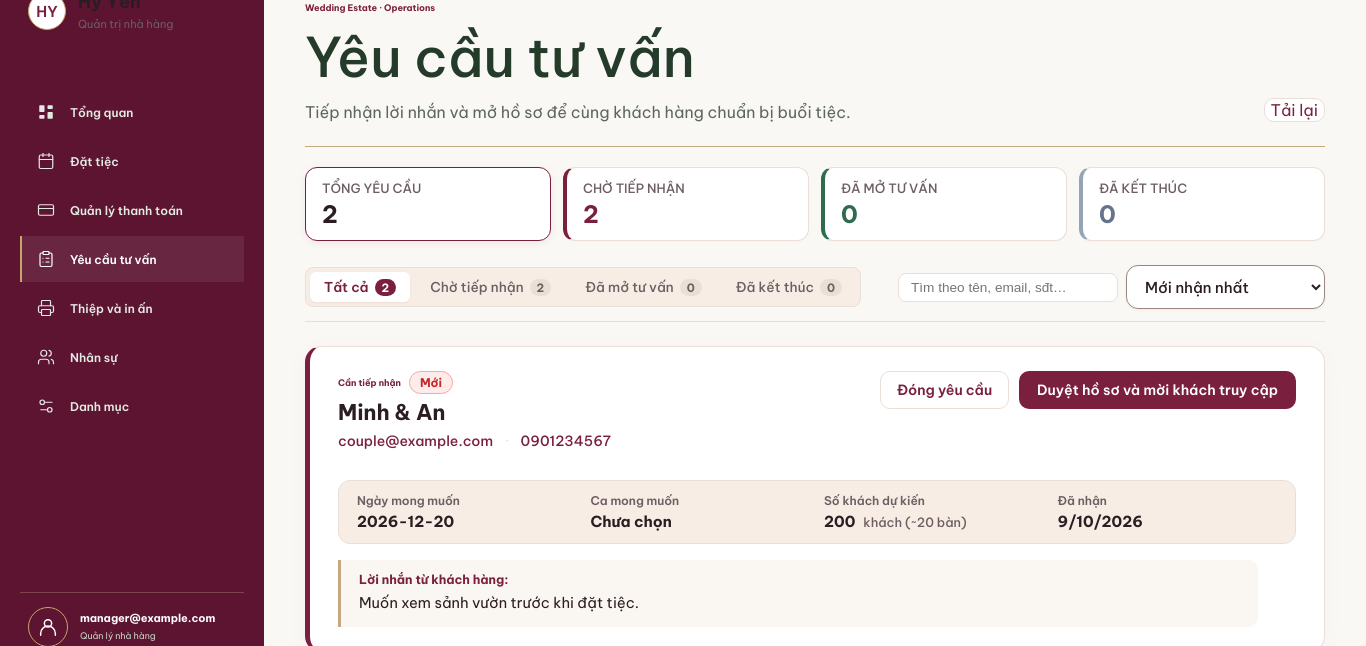
Scenario: ConsultationRequestsPage filters and search › filters requests by search query and shows empty state when nothing matches
Check: the heading "Minh & An" is shown, box [338,398,446,426]
Type "Hoàng" into the search field with placeholder "Tìm theo tên, email, sđt…" at (1008,287), box [898,273,1118,302]
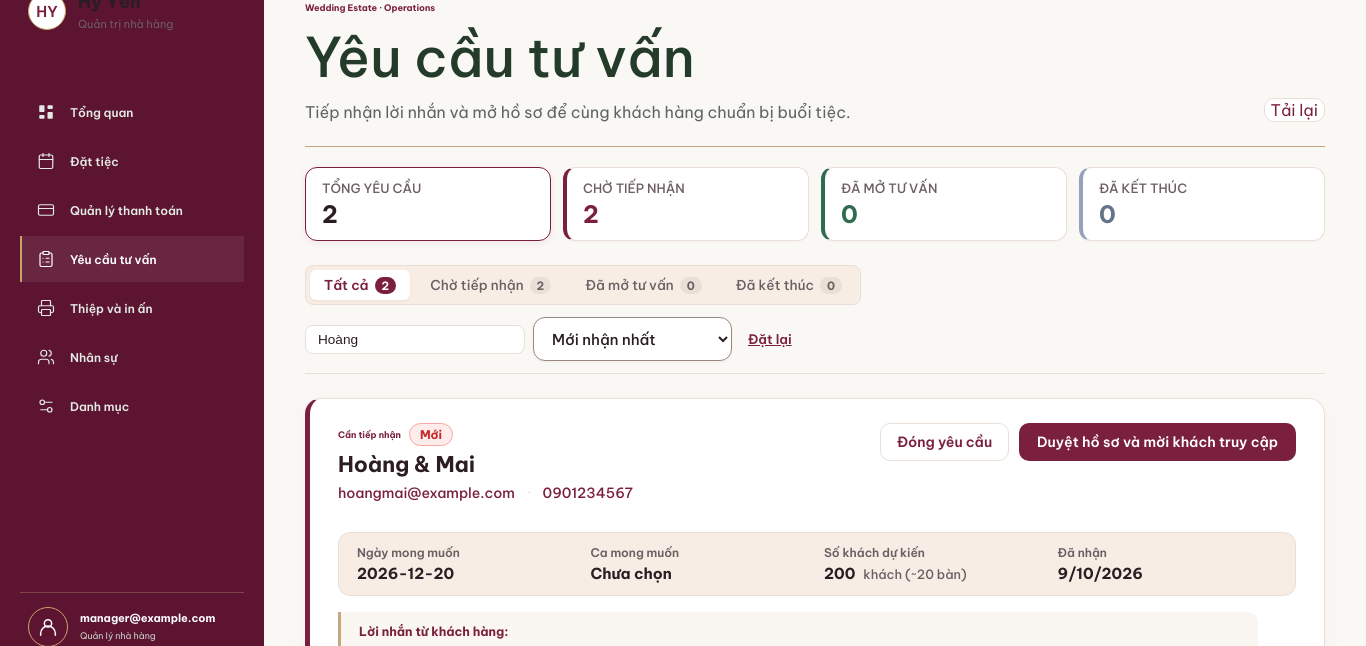
Check: the heading "Hoàng & Mai" is shown, box [338,450,475,478]
Check: the heading "Minh & An" is gone
# Search for non-existent text
Replace the text in the search field with placeholder "Tìm theo tên, email, sđt…" with "xyz123nonexistent" at (415,339), box [305,325,525,354]
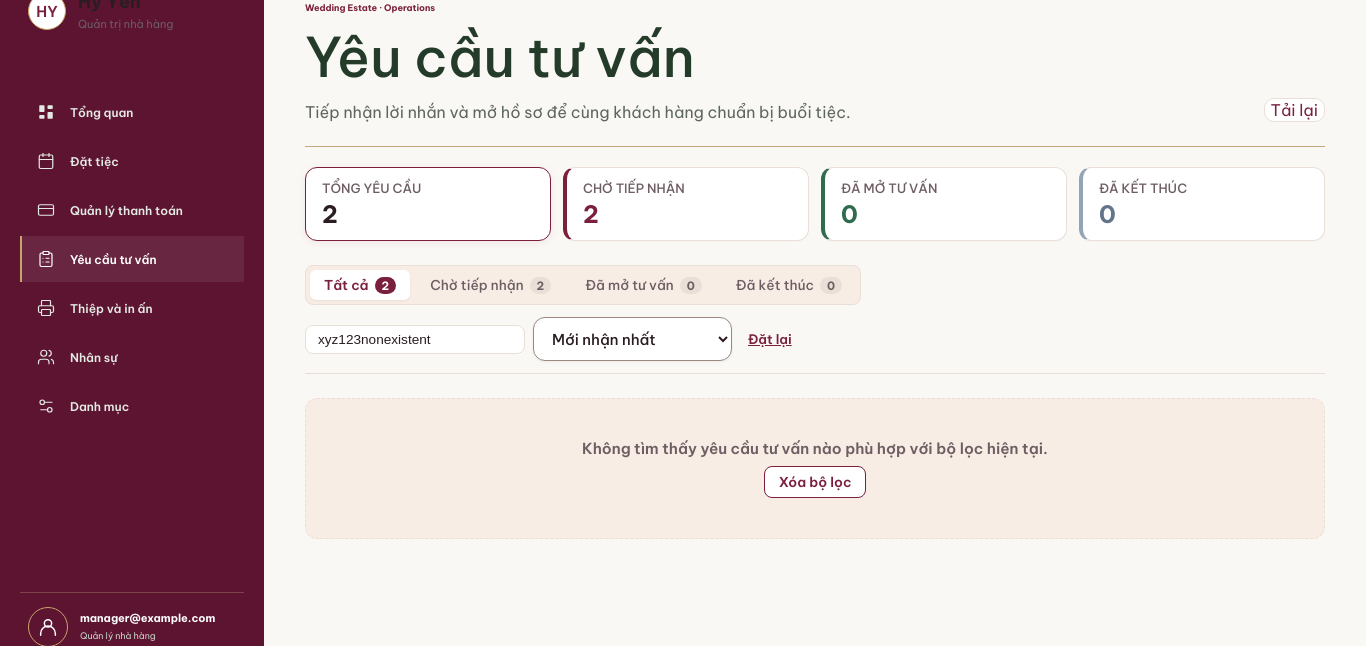
Check: the heading "Minh & An" is not shown
Check: the text "Không tìm thấy yêu cầu tư vấn nào phù hợp với bộ lọc hiện tại." is shown, box [582,439,1048,458]
Check: the heading "Hoàng & Mai" is gone
# Reset filter
Click the button "Xóa bộ lọc" at (815,482), box [764,466,866,498]
(page scrolled)
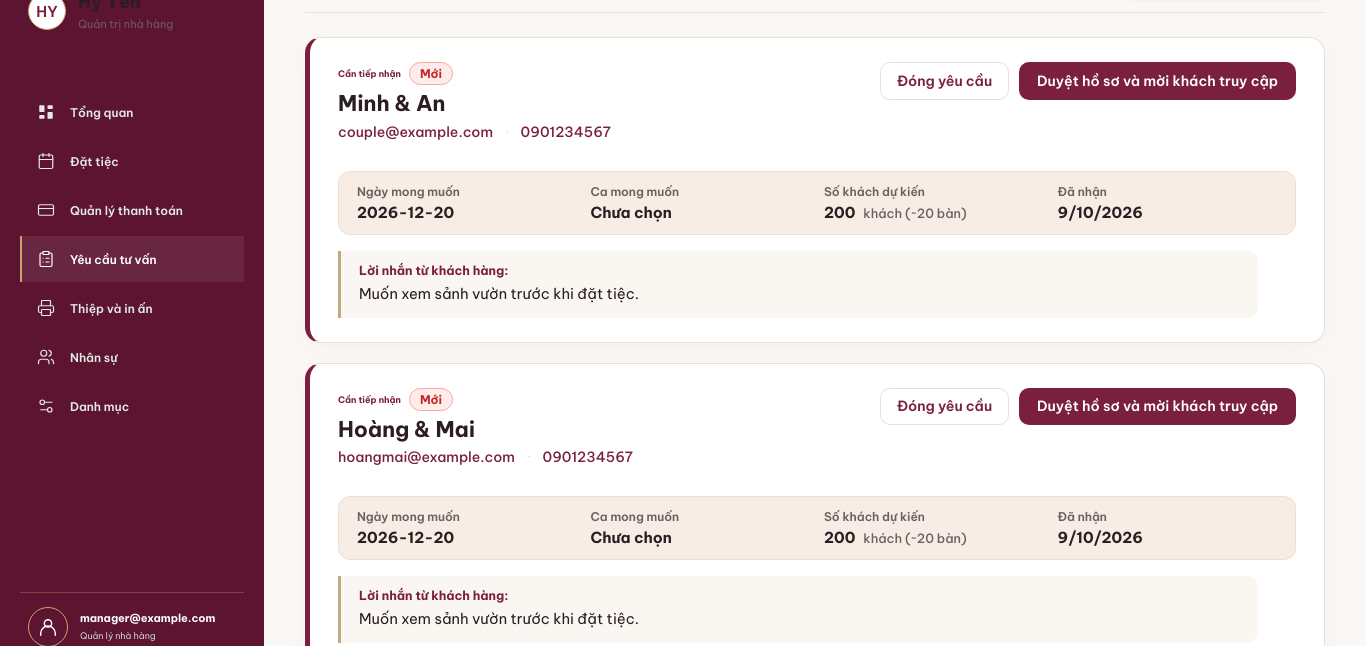
Check: the heading "Minh & An" is shown, box [338,89,446,117]
Check: the heading "Hoàng & Mai" is shown, box [338,415,475,443]
